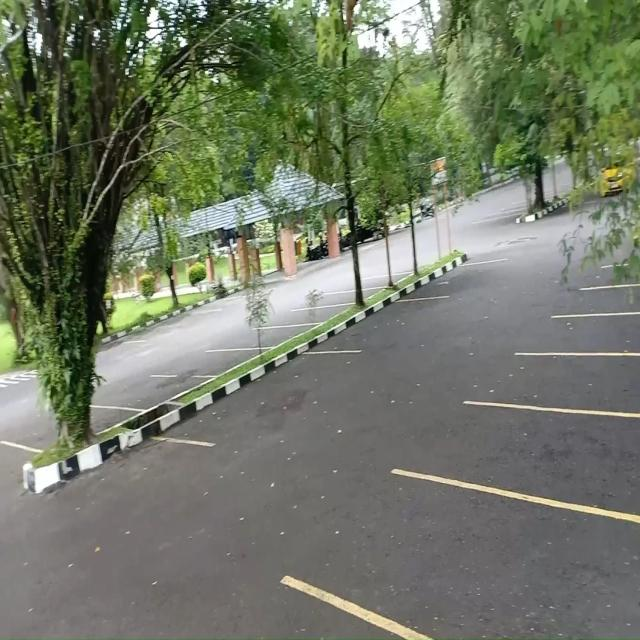empty: (396, 488, 640, 640), (457, 401, 640, 502), (218, 351, 334, 443), (529, 350, 640, 418), (356, 297, 430, 357), (553, 311, 640, 357), (112, 373, 182, 412), (175, 346, 247, 379), (254, 323, 298, 351), (291, 305, 340, 326)
